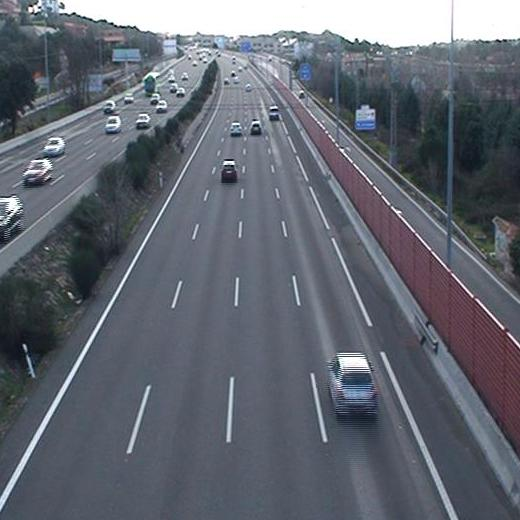car: (328, 353, 375, 416), (219, 159, 237, 181), (229, 119, 244, 135), (268, 106, 283, 121), (248, 119, 263, 133)
